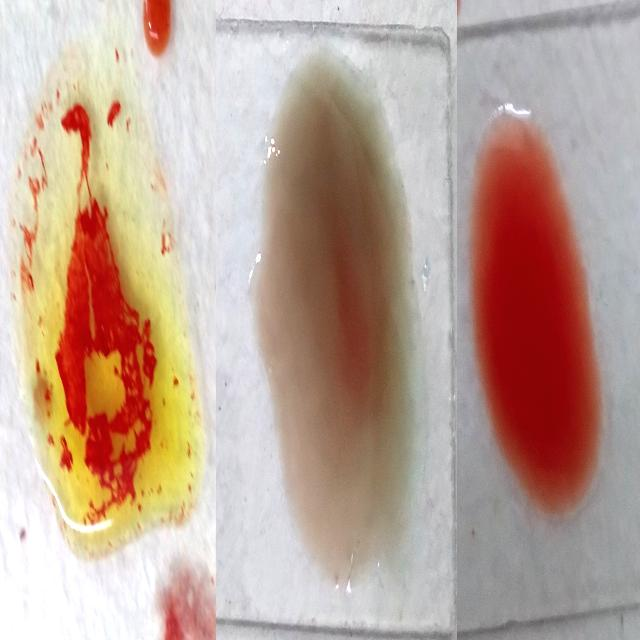B: (25, 79, 186, 552)
